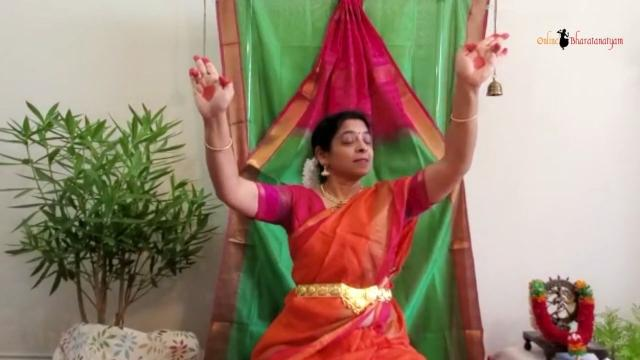tripataka: (177, 40, 247, 128), (444, 17, 516, 91)
